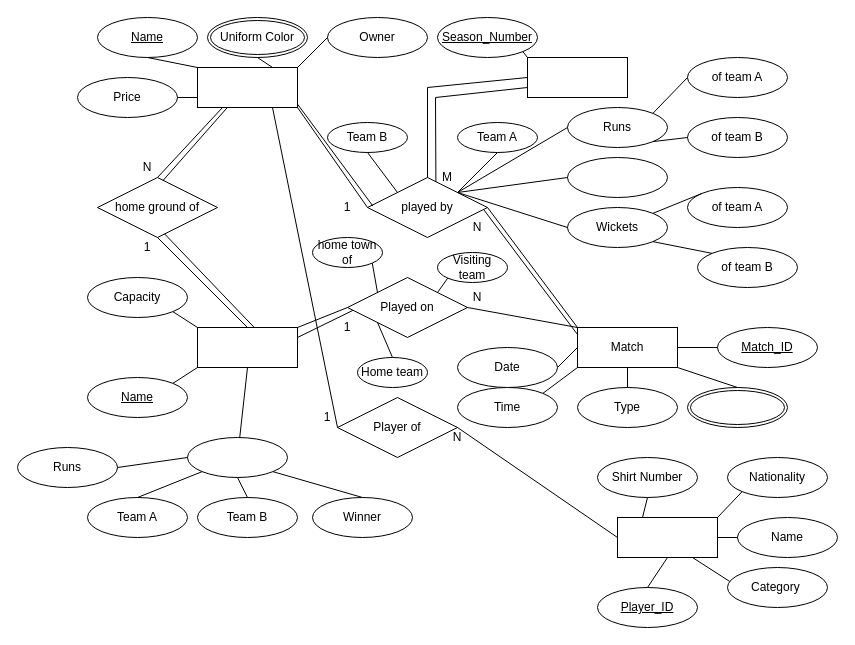
Image size: 855x645. Some labels were removed from this diagram. The shapes that lost their labels are listed below. From the top down, each one's centre as x and y in pixels, then its label:
At point (247, 87): "Team".
At point (577, 77): "Season".
At point (617, 177): "Overs".
At point (247, 347): "Ground".
At point (737, 407): "List of Umpires".
At point (237, 457): "ScoreCard".
At point (667, 537): "Player".
